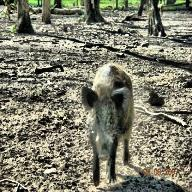boar: (62, 36, 150, 178)
